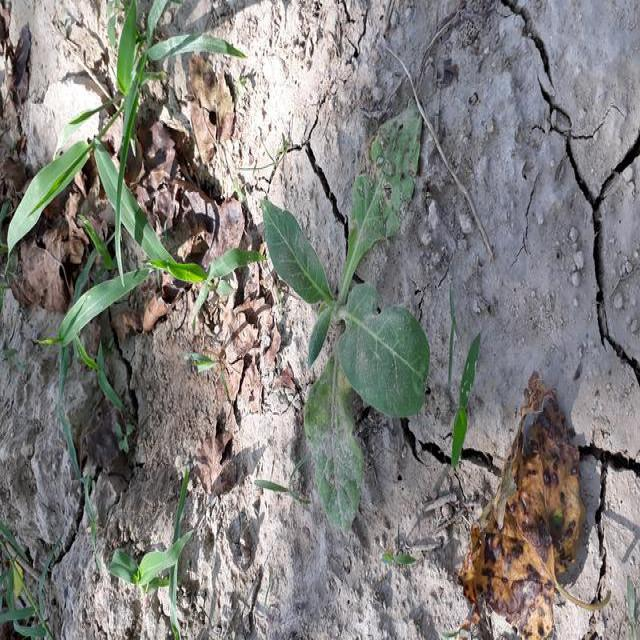crop: (258, 119, 420, 516)
